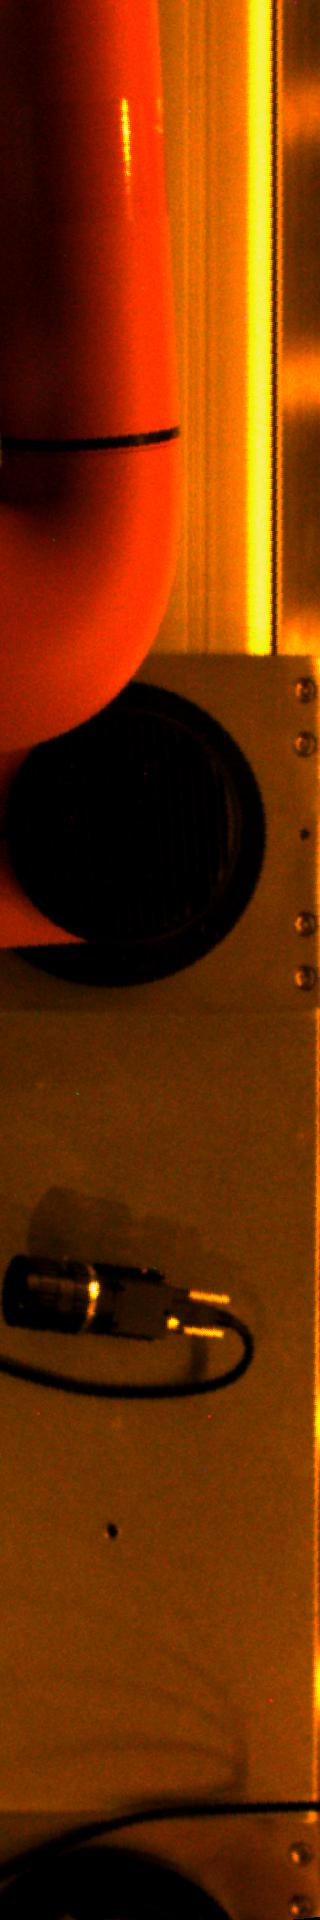keyPoint_2: (97, 1515, 128, 1545)
